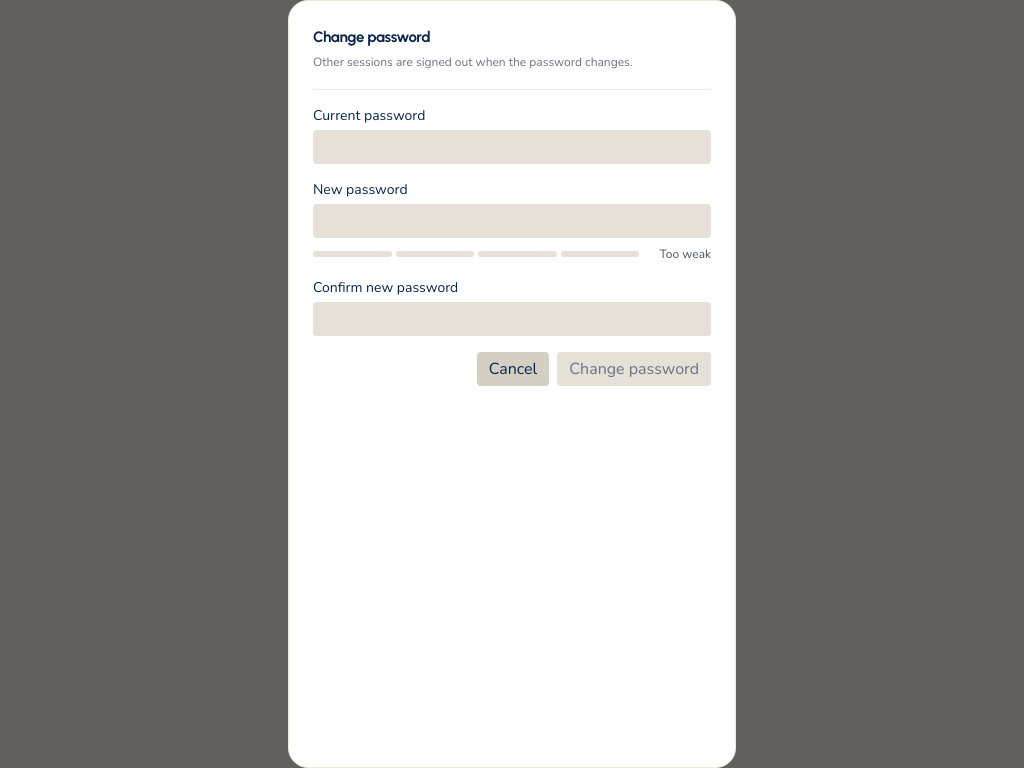
Test: ChangePasswordDialog (13b) › shows the server error (e.g. wrong current password)
Type "nope" into the password field labelled "Current password" at (512, 147), box [313,130,711,164]
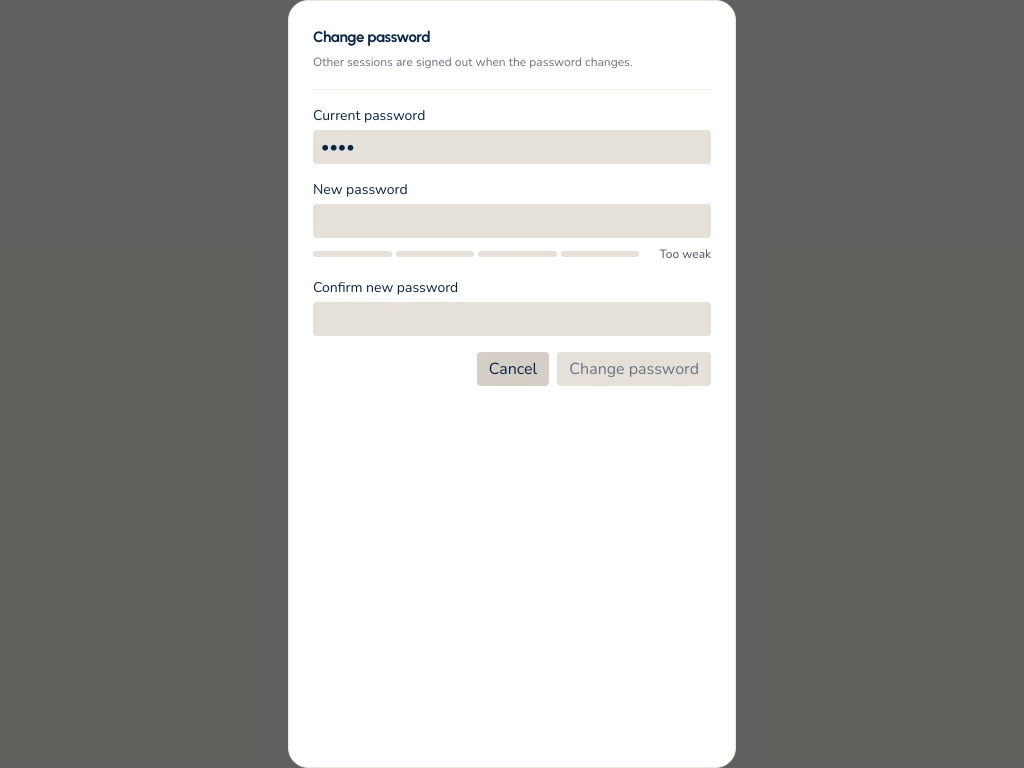
Type "N3w-Synthetic-pass!" into the password field labelled "New password" at (512, 221), box [313,204,711,238]
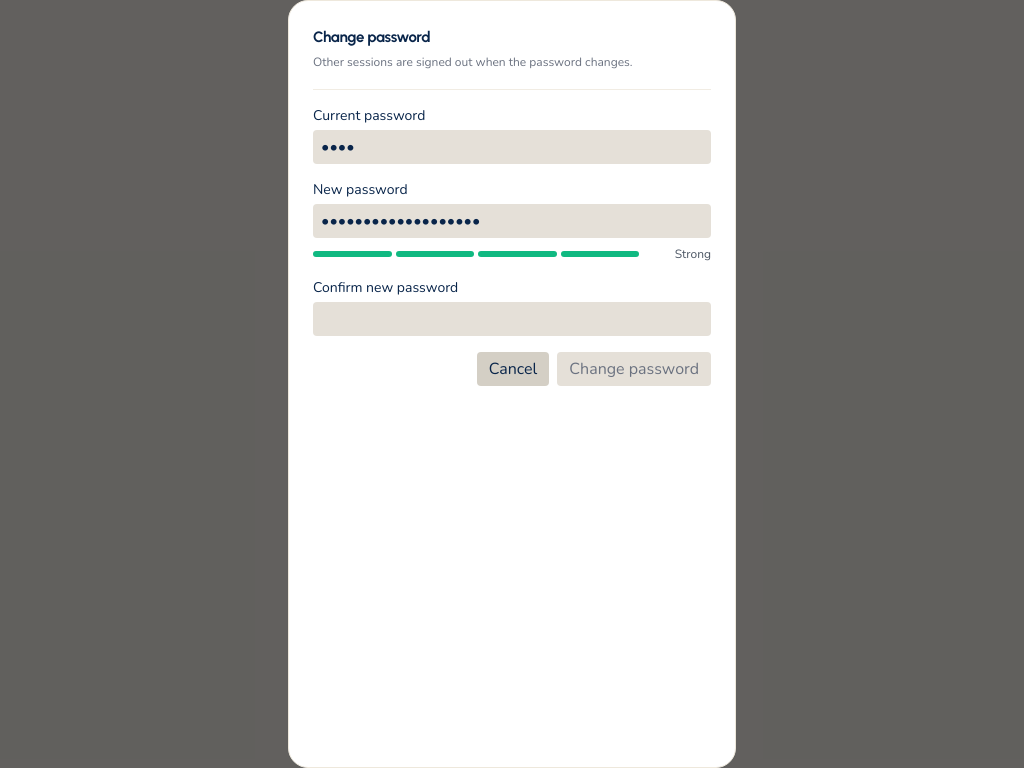
Type "N3w-Synthetic-pass!" into the password field labelled "Confirm new password" at (512, 319), box [313,302,711,336]
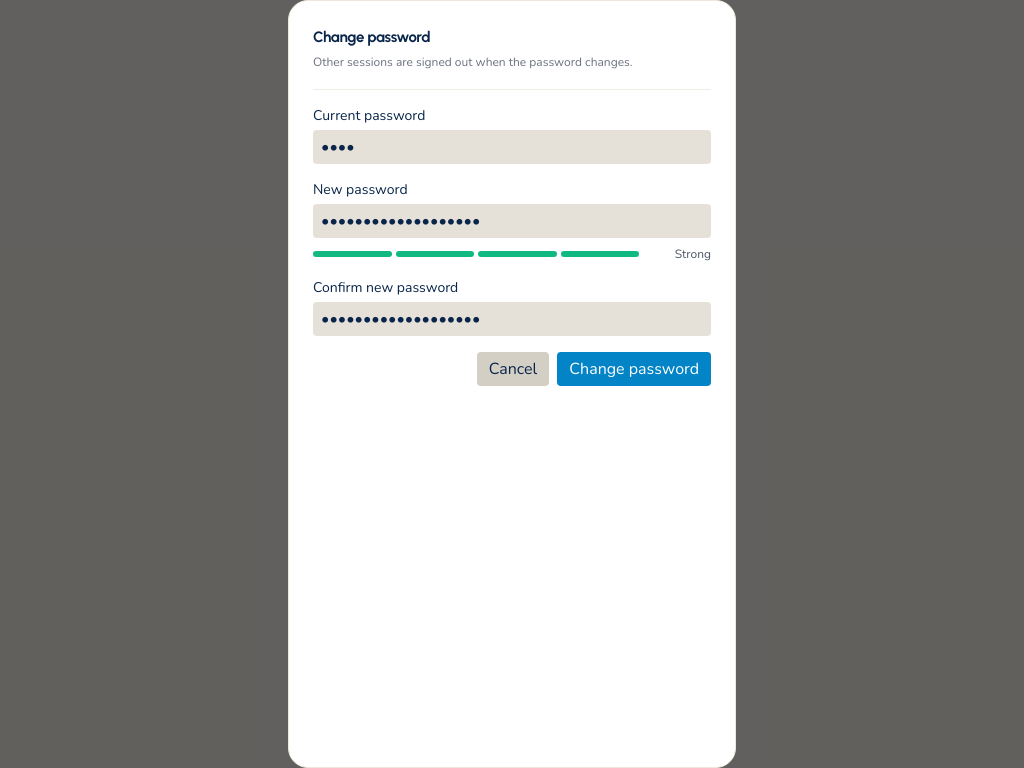
Click the button "Change password" at (634, 369), box [557,352,711,386]
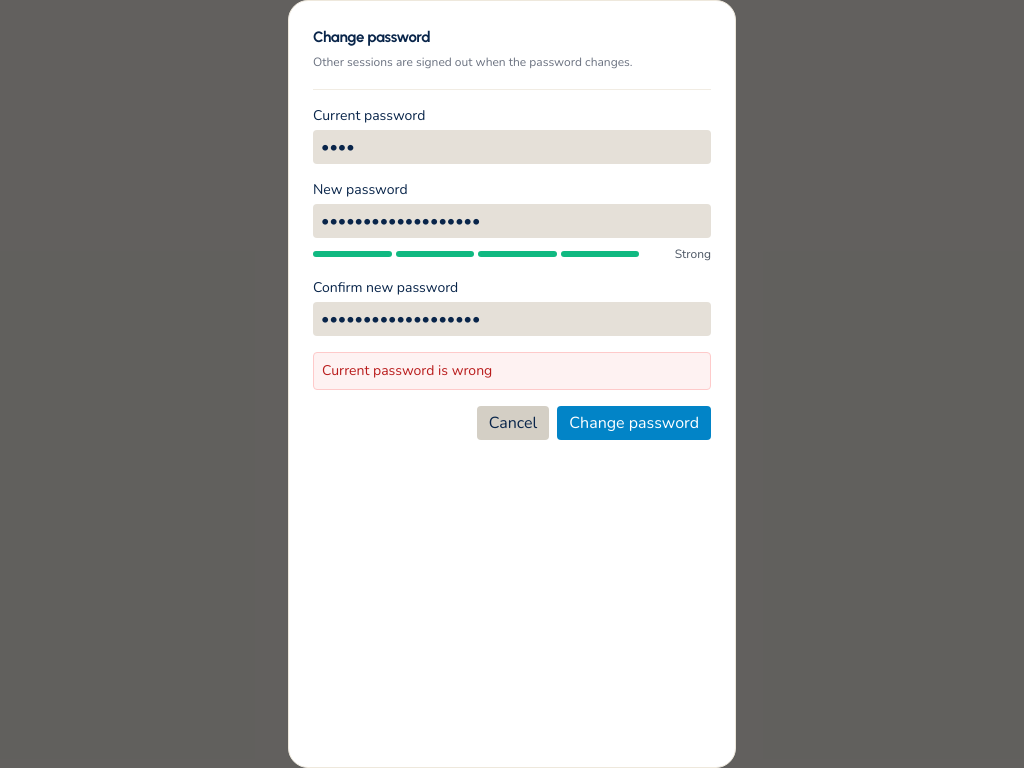
Check: the message reads "Current password is wrong", box [322,361,492,380]
